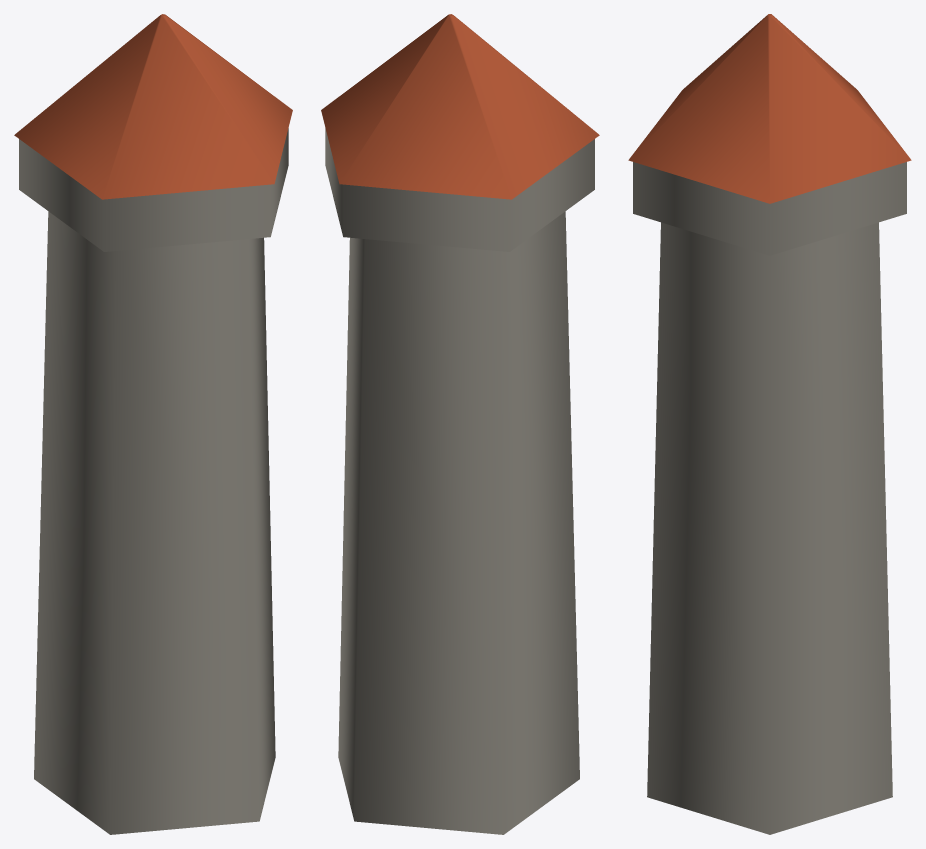
The model's file is bld_special_tower_a04_lod2.glb.
3 views of the same model, side by side, from view 1: azimuth 30°, elevation 25°; view 2: azimuth 150°, elevation 25°; view 3: azimuth 270°, elevation 25° (orthographic).
Parts seen in each view (by area): view 1: body; view 2: body; view 3: body.
Part boxes in pixels (box(x1,y1,x2,y2)): body: box(14, 14, 292, 834); body: box(321, 14, 599, 834); body: box(628, 14, 911, 834).
Size of the model in its own units: 5.43 by 17 by 5.71.
